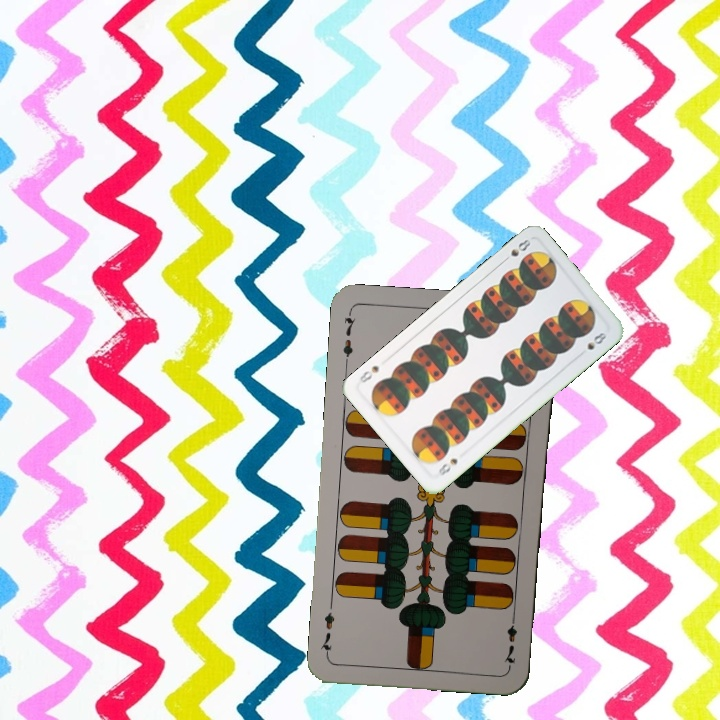E7: (339, 308, 359, 368), (500, 610, 519, 669)
S8: (498, 235, 533, 265), (434, 454, 460, 479)
